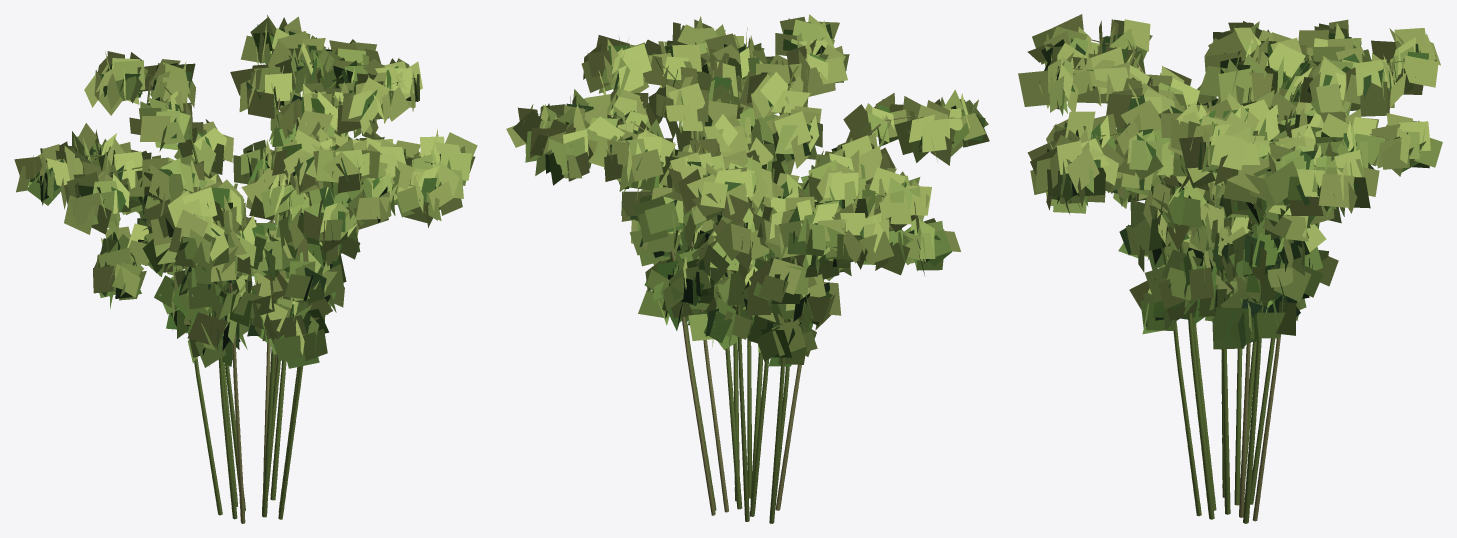
File: Bamboo.fbx
3 renders of one model, left to right at view 1: azimuth 30°, elevation 25°; view 2: azimuth 150°, elevation 25°; view 3: azimuth 270°, elevation 25°, orthographic. The views are drawn at different scales.
Parts seen in each view (by area): view 1: Bamboo; view 2: Bamboo; view 3: Bamboo.
Part boxes in pixels (box(x1,y1,x2,y2)): Bamboo: box(14, 15, 477, 523); Bamboo: box(506, 14, 989, 523); Bamboo: box(1018, 14, 1442, 523).
Bounding box in the file's own units: 7.79 × 8.57 × 7.16.
